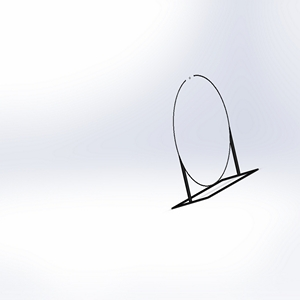circle: (169, 74, 259, 210)
